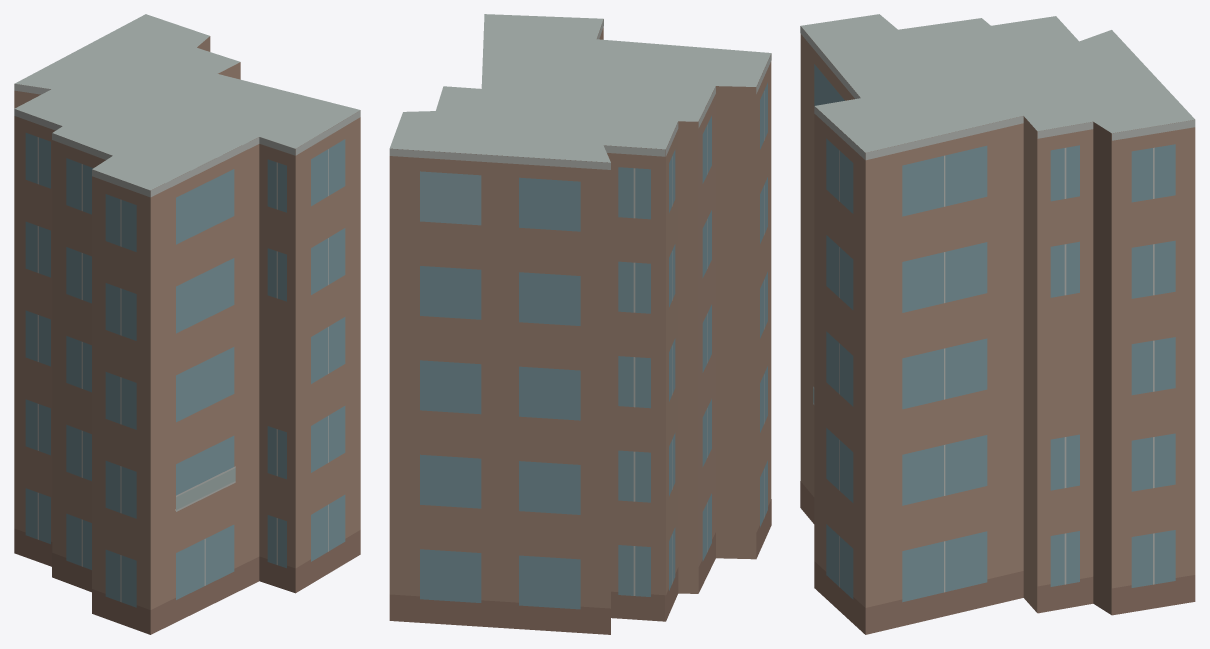
Rendered from survey-upis-32595221.glb.
3 views of the same model, side by side, from view 1: azimuth 30°, elevation 25°; view 2: azimuth 150°, elevation 25°; view 3: azimuth 270°, elevation 25° (orthographic). The views are drawn at different scales.
Parts seen in each view (by area): view 1: survey-upis-32595221.tmp; view 2: survey-upis-32595221.tmp; view 3: survey-upis-32595221.tmp.
Part boxes in pixels (box(x1,y1,x2,y2)): survey-upis-32595221.tmp: box(14, 14, 360, 634); survey-upis-32595221.tmp: box(389, 14, 771, 634); survey-upis-32595221.tmp: box(800, 14, 1195, 634).
Bounding box in the file's own units: 9.64 × 15.6 × 11.59.
